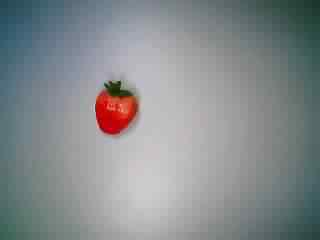strawberry: (80, 75, 146, 141)
